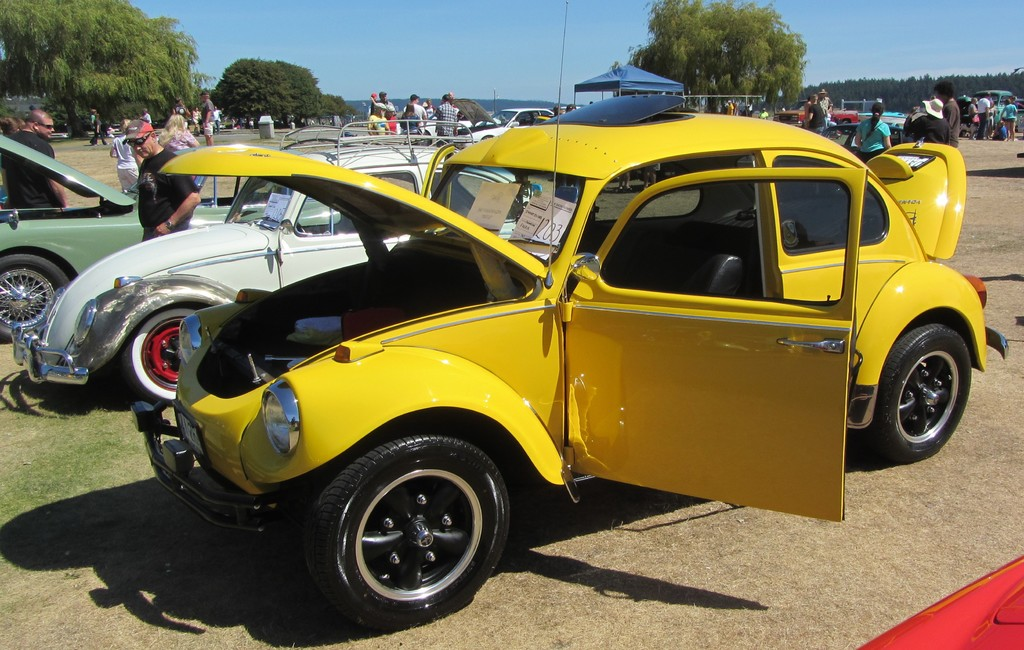Car: (132, 90, 1007, 644), (14, 109, 541, 420), (0, 129, 356, 343)
